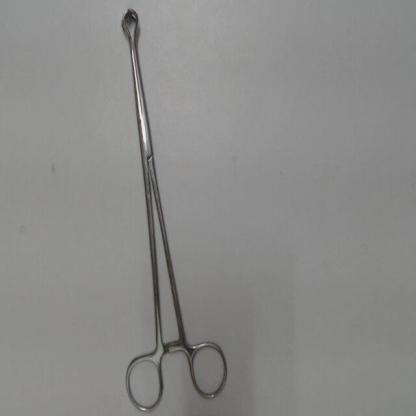8 Babcock Tissue Forceps: (116, 4, 232, 415)
